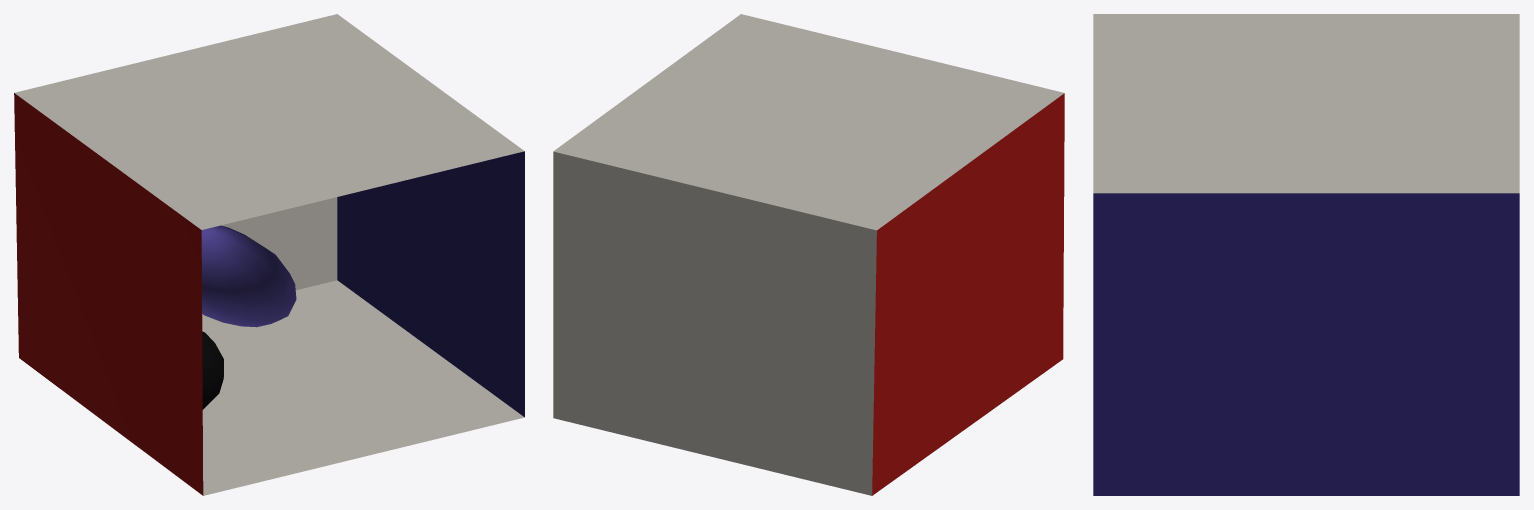
Rendered from CornellBox-Ellipsoid-204.obj.
The picture shows the model from 3 angles, left to right: view 1: azimuth 30°, elevation 25°; view 2: azimuth 150°, elevation 25°; view 3: azimuth 270°, elevation 25°; orthographic projection. The views are drawn at different scales.
Parts seen in each view (by area): view 1: ceiling, leftWall, floor, rightWall, leftSphere, backWall, rightSphere; view 2: backWall, ceiling, leftWall; view 3: rightWall, ceiling.
Boxes of the visible parts, <box> form: ceiling: <box>14,14,524,229</box>; leftWall: <box>14,93,203,495</box>; floor: <box>202,280,524,495</box>; rightWall: <box>337,151,524,417</box>; leftSphere: <box>201,225,296,327</box>; backWall: <box>221,197,337,290</box>; rightSphere: <box>202,331,223,409</box>; backWall: <box>553,151,876,495</box>; ceiling: <box>553,14,1064,230</box>; leftWall: <box>872,93,1064,495</box>; rightWall: <box>1093,193,1519,495</box>; ceiling: <box>1093,14,1519,193</box>.
Size of the model in its own units: 2.02 by 1.59 by 2.03.
